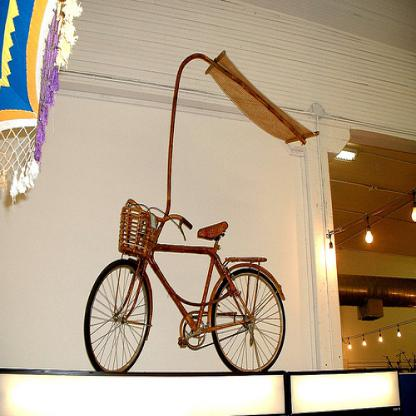bicycle: (84, 196, 285, 372)
